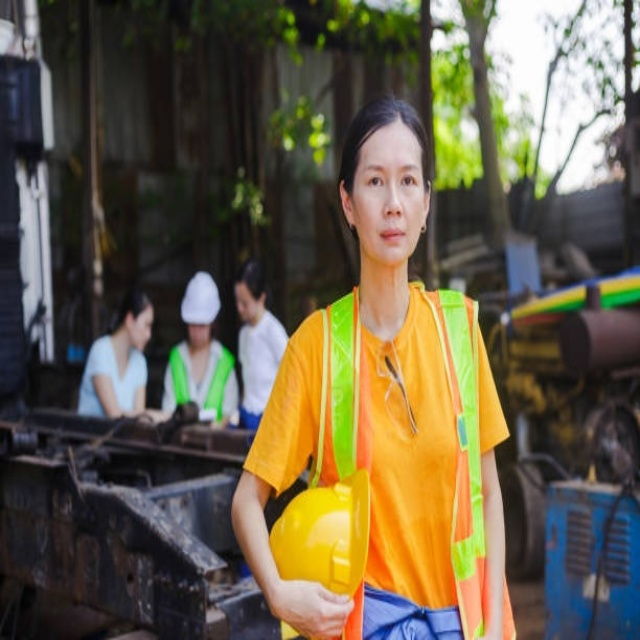Sin_gafas: (362, 158, 421, 196)
Sin_guantes: (278, 577, 359, 634)
Sin_mascara: (372, 221, 412, 254)
